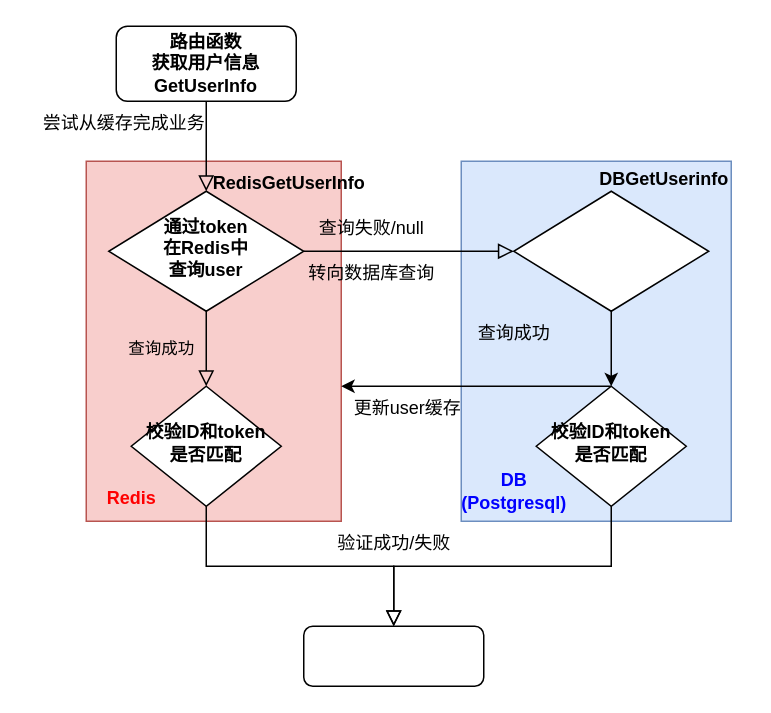
This 771x713 diagram has some shape labels left out. Each missing label, with the centre of its shape:
"获取用户信息 业务完成" goes at (x=393, y=655).
"通过token 在数据库中 查询user" goes at (x=610, y=250).
